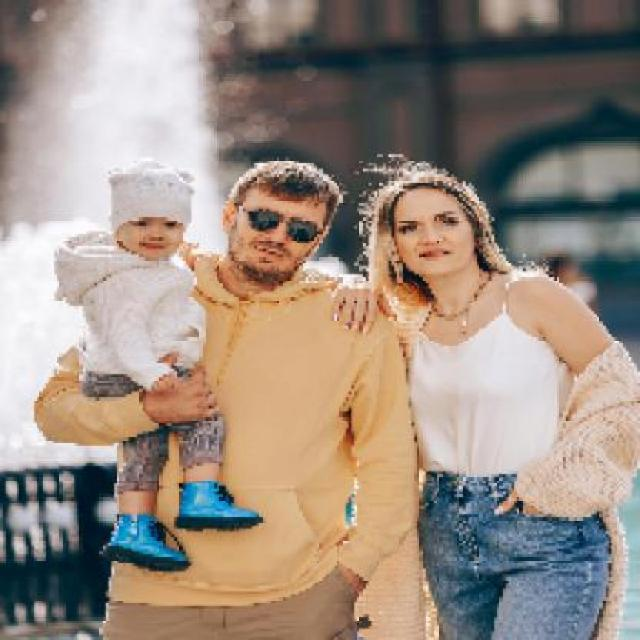child: (50, 156, 264, 573)
